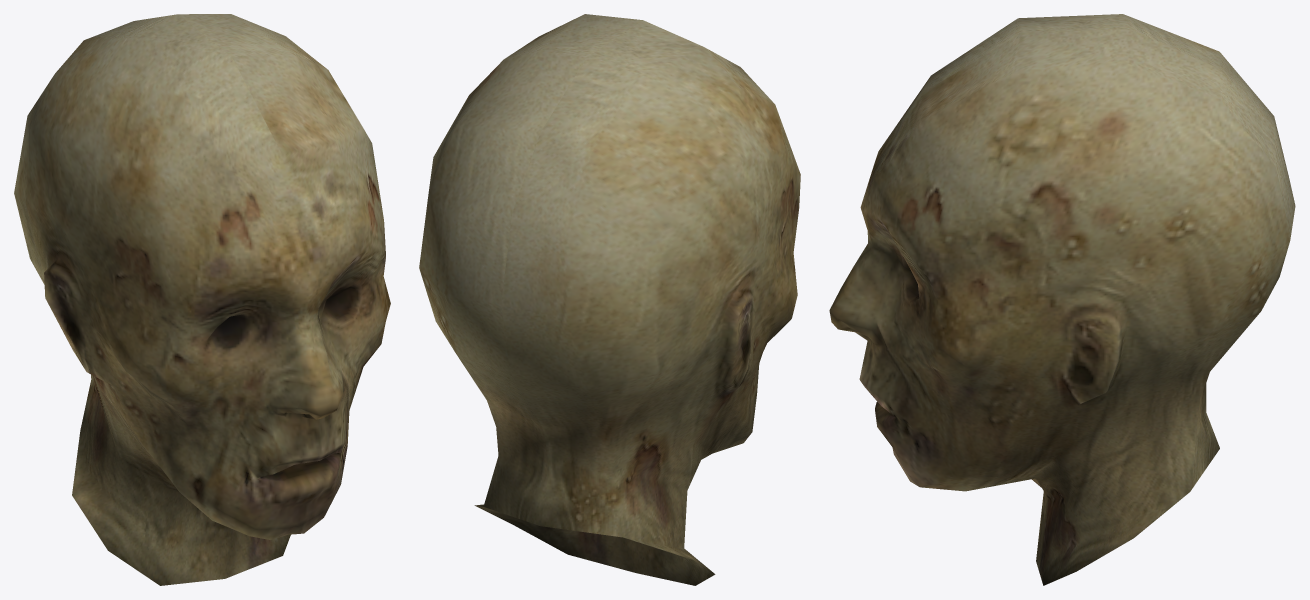
Rendered from Corpse_Habitat_Male_head.dae.
The picture shows the model from 3 angles, left to right: view 1: azimuth 30°, elevation 25°; view 2: azimuth 150°, elevation 25°; view 3: azimuth 270°, elevation 25°; orthographic projection. The views are drawn at different scales.
Parts seen in each view (by area): view 1: Mesh; view 2: Mesh; view 3: Mesh.
Part boxes in pixels (bbox=[...]): Mesh: bbox=[14, 14, 390, 585]; Mesh: bbox=[419, 14, 800, 585]; Mesh: bbox=[829, 14, 1295, 585].
Size of the model in its own units: 0.1717 by 0.3102 by 0.2463.
